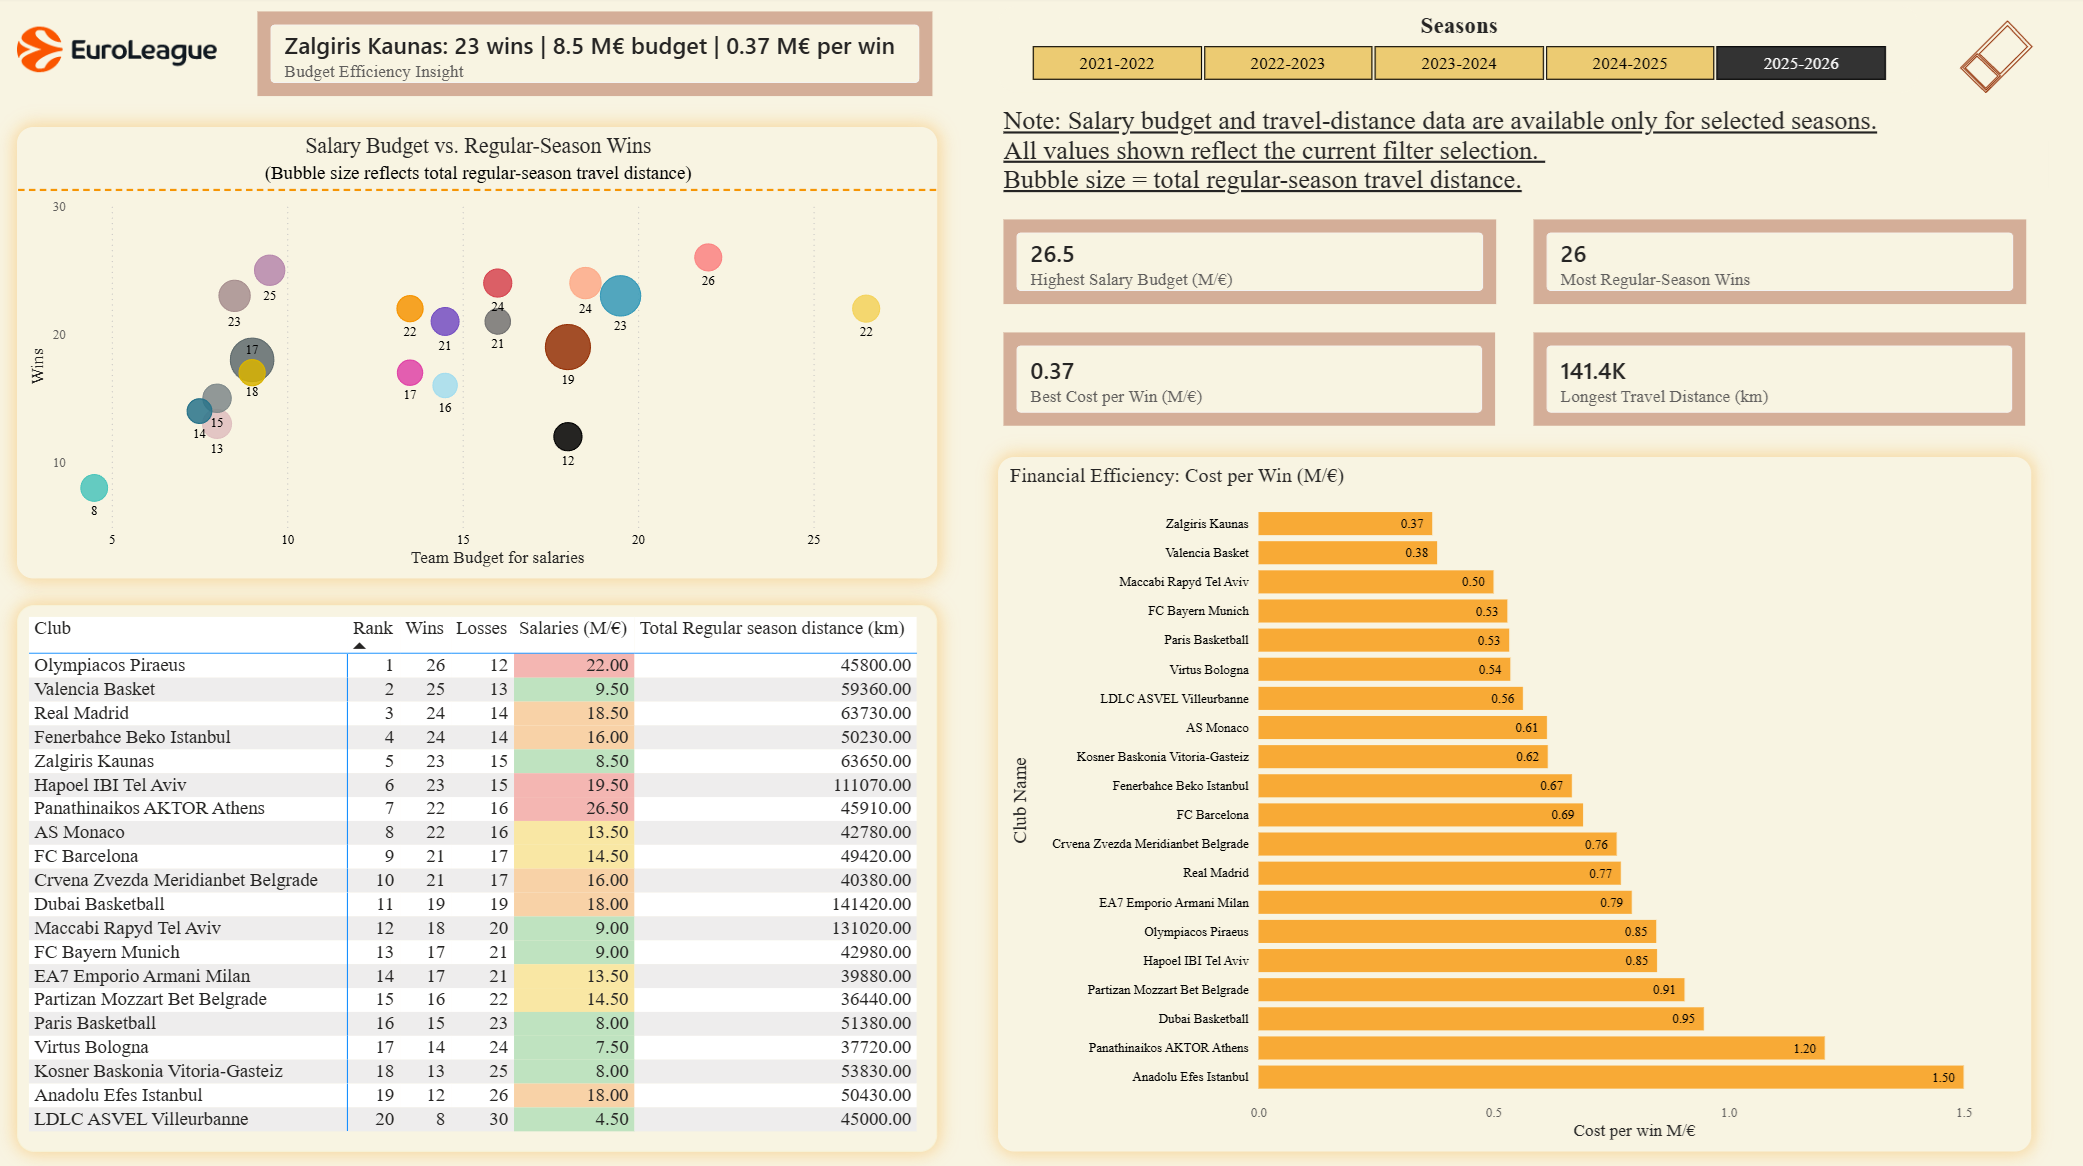

This screenshot's page, from the dashboard's own definition file:
{"tool":"powerbi","page":{"name":"Travel and budgets","canvas":[1280,720],"ordinal":2},"visuals":[{"type":"scatterChart","title":"Correlation between budget and wins","fields":{"Y":["Standings.Wins"],"Series":["Clubs Dimension.Club_Name"],"X":["Sum(Budgets.Players/coaches salaries (net) M/€)"],"Size":["Sum(Budgets.Players/coaches salaries (net) M/€)"]},"box":[0,80,768,352],"z":0},{"type":"slicer","title":"Seasons","fields":{"Values":["Seasons Dimension.Seasons"]},"box":[240,0,1040,80],"z":1000},{"type":"pivotTable","fields":{"Rows":["Clubs Dimension.Club_Name"],"Values":["Sum(Standings.Rank)","Sum(Standings.Wins)","Sum(Standings.Losses)","Sum(Budgets.Players/coaches salaries (net) M/€)","Avg(Euroleague travel distance.Total Regular season distance)"]},"box":[0,432,768,288],"z":2000},{"type":"clusteredBarChart","title":"Financial Efficiency: Cost per Win (M/€)","fields":{"Category":["Clubs Dimension.Club_Name"],"Y":["Measures (2).Cost Per Win"]},"box":[768,80,512,640],"z":3000},{"type":"shape","box":[0,0,240,80],"z":4000},{"type":"image","box":[48,24,144,32],"z":5000}]}

Visuals, with their boxes in screenshot pixels (x1, y1, x2, y2), scaled from the page's 1280x720 canvas onto the 2083x1166 screenshot:
"Correlation between budget and wins" scatterChart: [0, 130, 1250, 700]
"Seasons" slicer: [391, 0, 2082, 130]
pivotTable - Clubs Dimension.Club_Name x Sum(Standings.Rank): [0, 700, 1250, 1165]
"Financial Efficiency: Cost per Win (M/€)" clusteredBarChart: [1250, 130, 2082, 1165]
shape: [0, 0, 391, 130]
image: [78, 39, 312, 91]
